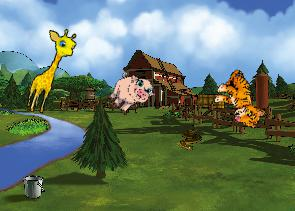giraffe: (23, 24, 80, 119)
pig: (102, 65, 158, 121)
tiger: (207, 65, 276, 132)
